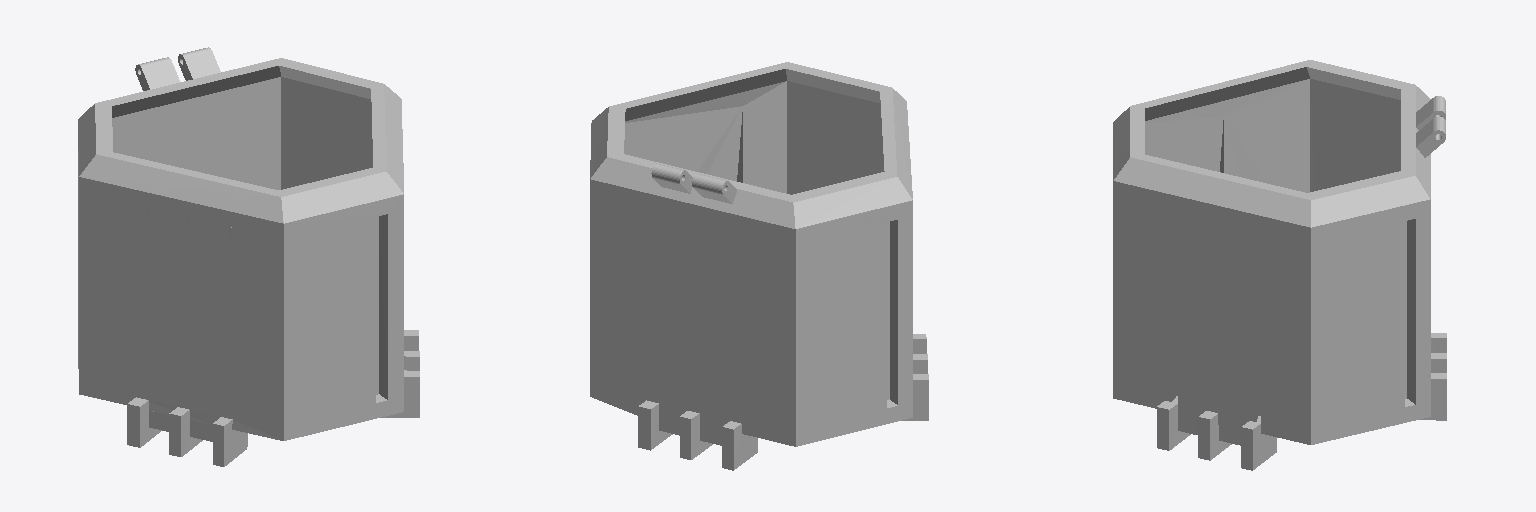
The model's file is interest capsule-5-noedit-body.obj.
3 views of the same model, side by side, from view 1: azimuth 30°, elevation 25°; view 2: azimuth 150°, elevation 25°; view 3: azimuth 270°, elevation 25° (orthographic).
Parts seen in each view (by area): view 1: 圆柱.2; view 2: 圆柱.2; view 3: 圆柱.2.
Part boxes in pixels (bbox=[...]): 圆柱.2: bbox=[78, 47, 419, 466]; 圆柱.2: bbox=[590, 62, 928, 470]; 圆柱.2: bbox=[1113, 60, 1446, 470].
Bounding box in the file's own units: 775 × 653 × 695.